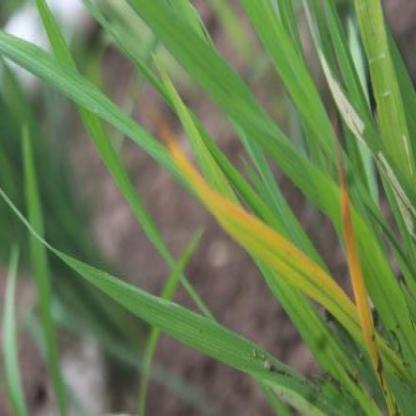Tungro: (156, 112, 374, 364), (340, 137, 407, 416)
